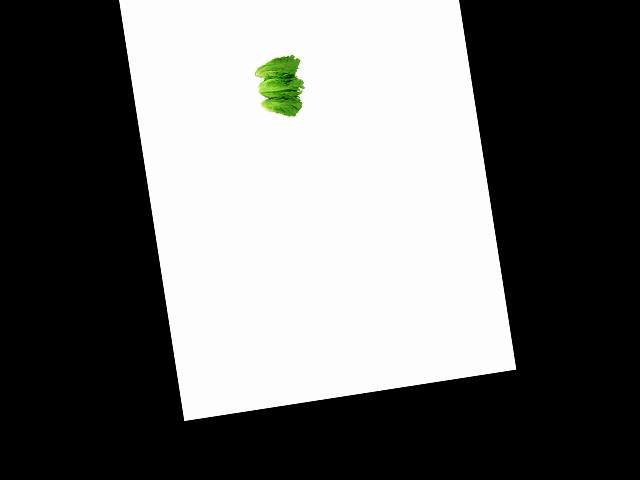lettuce: (249, 90, 305, 122)
